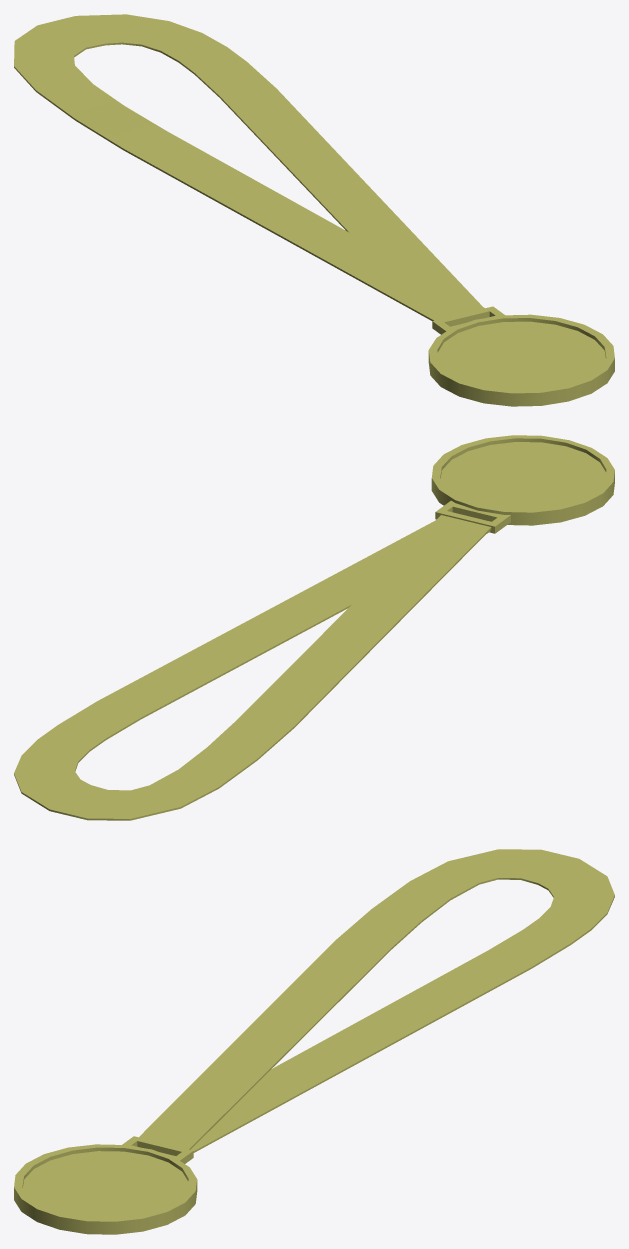
The model's file is memal3_LP.fbx.
The picture shows the model from 3 angles, top to bottom: view 1: azimuth 30°, elevation 25°; view 2: azimuth 150°, elevation 25°; view 3: azimuth 330°, elevation 25°; orthographic projection.
Visible parts, largest first — view 1: medal3_3_LP, medal3_1_LP, medal3_2_LP; view 2: medal3_3_LP, medal3_1_LP, medal3_2_LP; view 3: medal3_3_LP, medal3_1_LP, medal3_2_LP.
Boxes of the visible parts, left/top/right/bottom form: medal3_3_LP: left=14, top=14, right=484, bottom=321; medal3_1_LP: left=428, top=314, right=614, bottom=406; medal3_2_LP: left=432, top=306, right=504, bottom=334; medal3_3_LP: left=14, top=515, right=491, bottom=820; medal3_1_LP: left=431, top=435, right=614, bottom=525; medal3_2_LP: left=435, top=500, right=510, bottom=533; medal3_3_LP: left=139, top=849, right=614, bottom=1152; medal3_1_LP: left=14, top=1144, right=197, bottom=1234; medal3_2_LP: left=122, top=1136, right=193, bottom=1163.
Bounding box in the file's own units: 12.62 × 0.8455 × 59.43.
